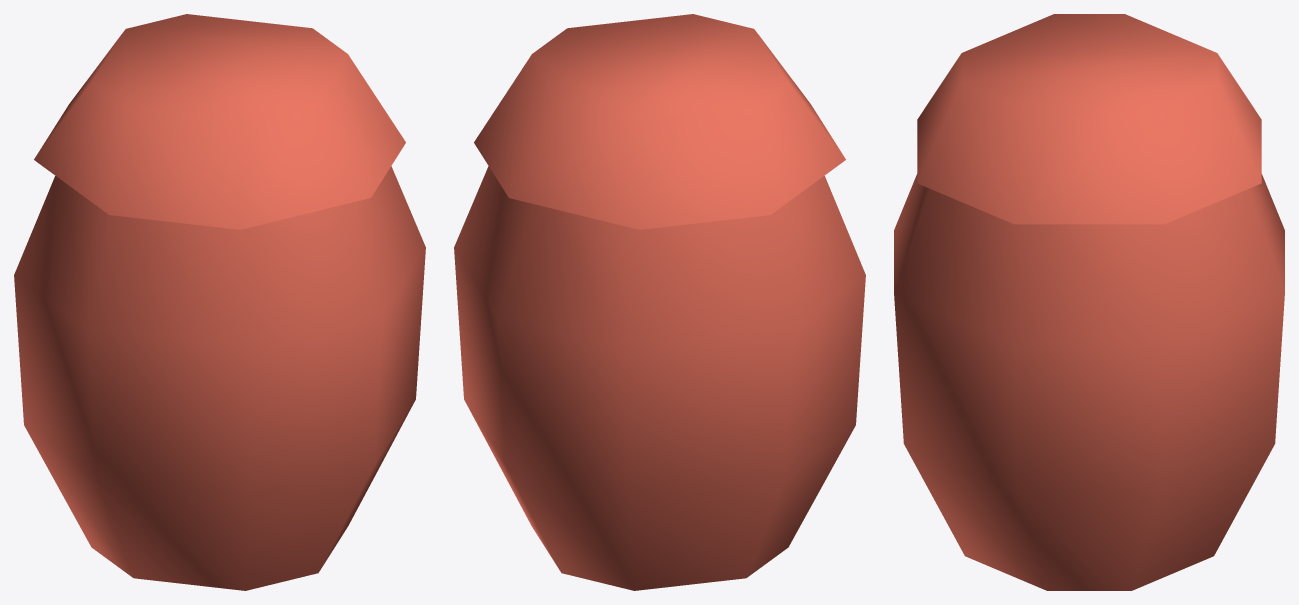
Rendered from Onggi_Small.fbx.
3 views of the same model, side by side, from view 1: azimuth 30°, elevation 25°; view 2: azimuth 150°, elevation 25°; view 3: azimuth 270°, elevation 25° (orthographic).
Visible parts, largest first — view 1: Onggi_small; view 2: Onggi_small; view 3: Onggi_small.
Part boxes in pixels (box(x1,y1,x2,y2)): Onggi_small: box(14, 14, 425, 590); Onggi_small: box(454, 14, 865, 590); Onggi_small: box(894, 14, 1284, 590).
Size of the model in its own units: 26.8 by 35.57 by 26.8.
